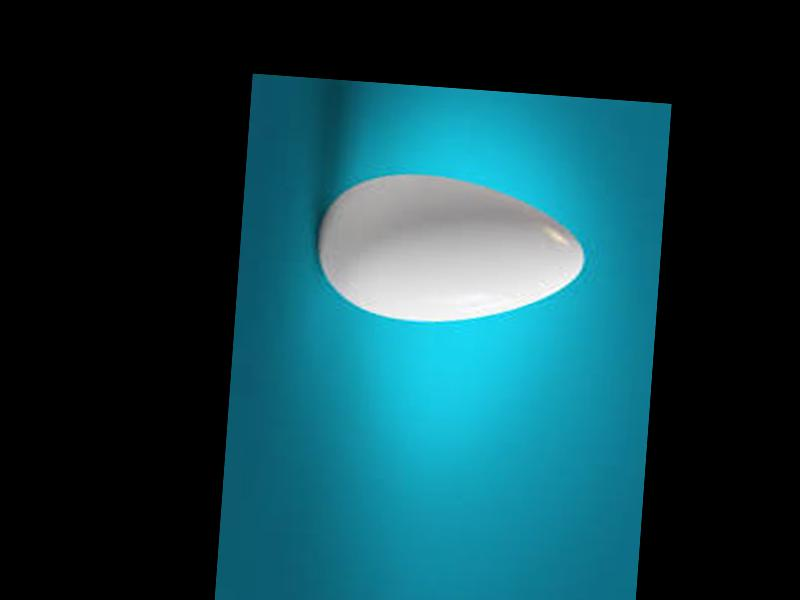Eggs: (312, 166, 587, 333)
